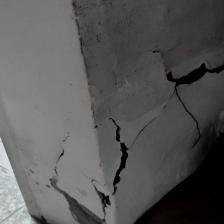High: (44, 49, 223, 223)
